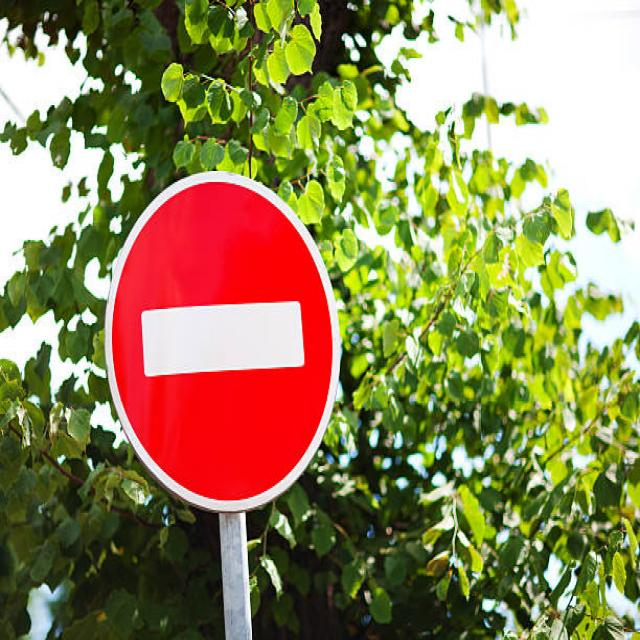do_not_enter: (96, 162, 345, 515)
